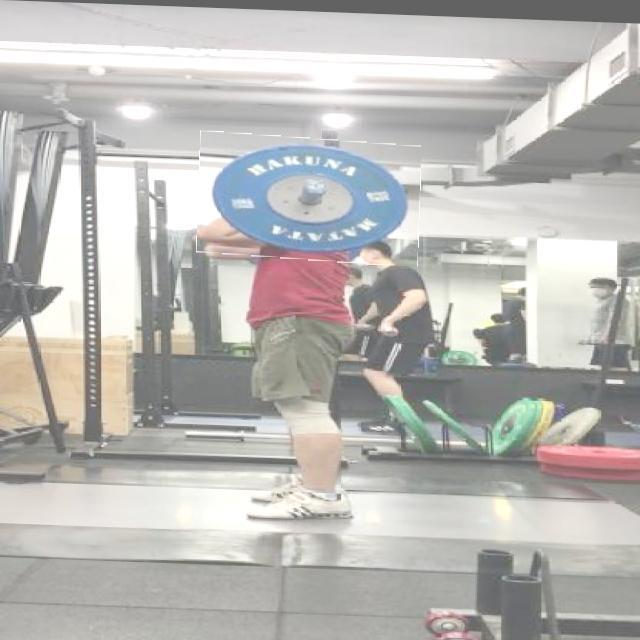barbell: (198, 132, 421, 263)
